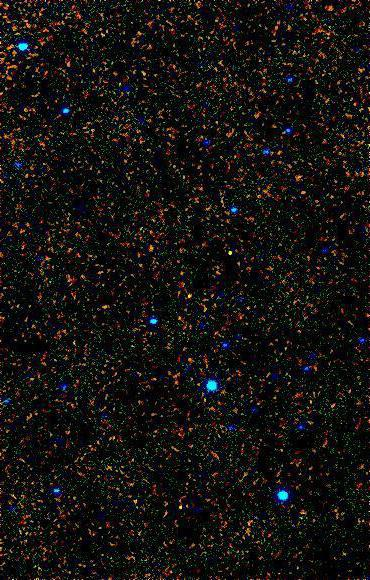star: (217, 237, 247, 267)
